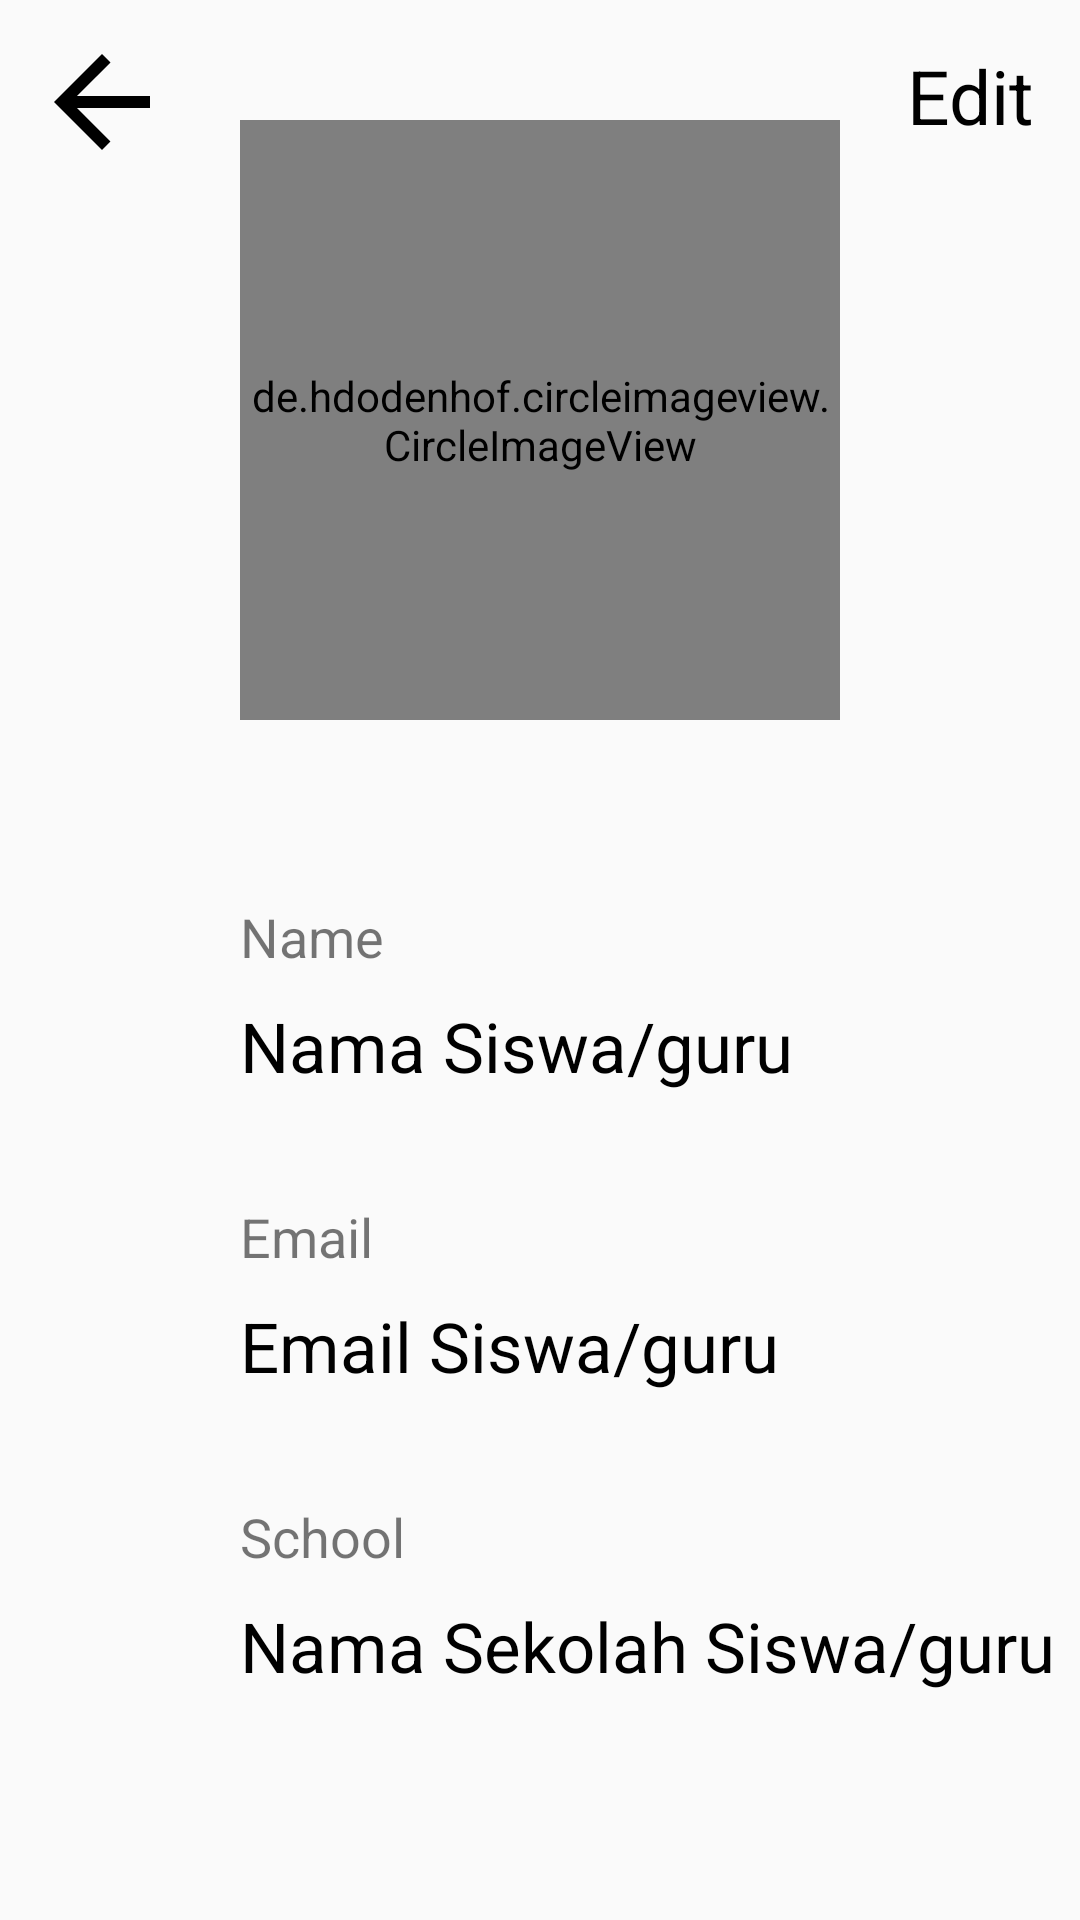

Screen size 1080px×1920px. Icon name, then its center in pixels as (x=x, y=y):
arrow kembali: (x=102, y=102)
